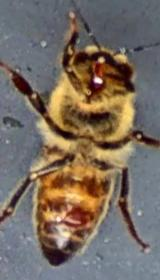varroa_mite: (55, 201, 99, 231)
